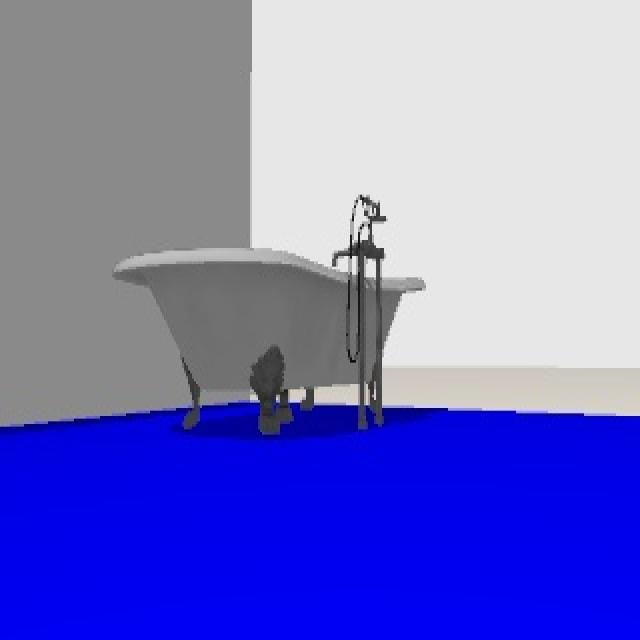bathtub: (108, 202, 433, 434)
